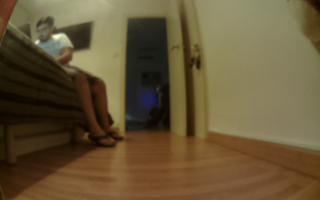person: (32, 16, 127, 149)
